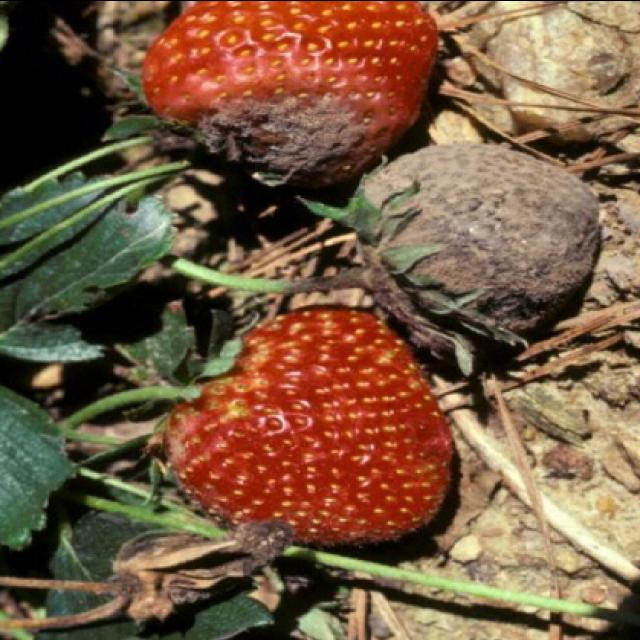Gray Mold: (294, 138, 601, 375), (170, 79, 374, 183)
